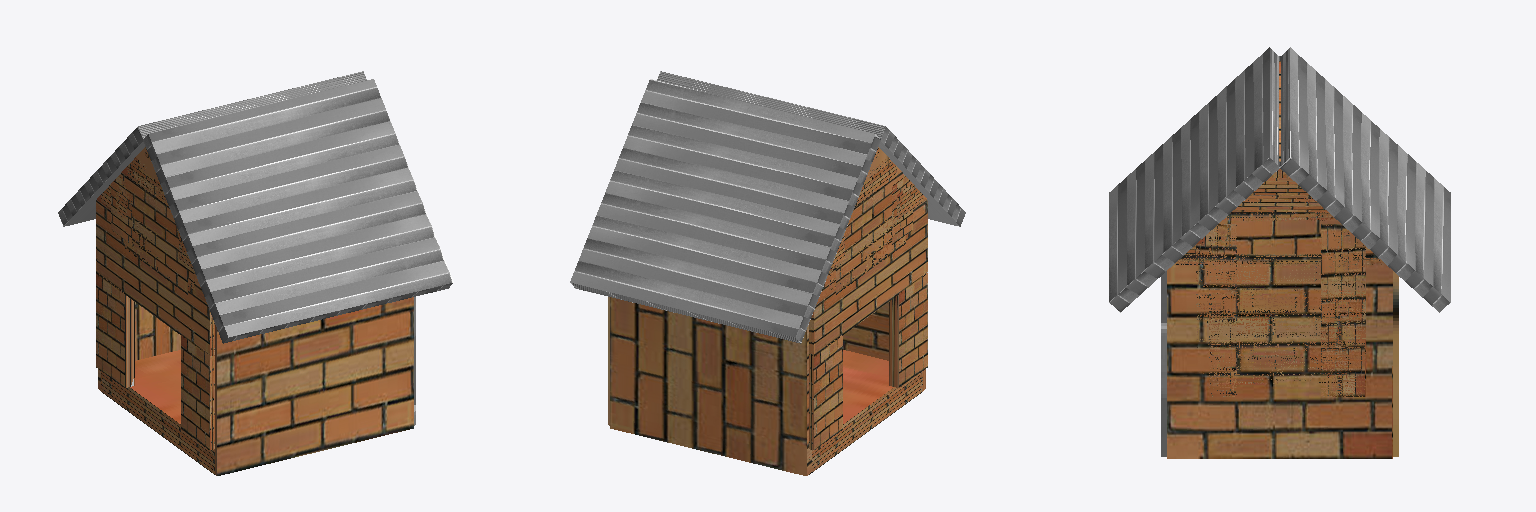
3 renders of one model, left to right at view 1: azimuth 30°, elevation 25°; view 2: azimuth 150°, elevation 25°; view 3: azimuth 270°, elevation 25°, orthographic.
Size of the model in its own units: 2.3 by 2.99 by 3.01.
23 materials, 1 textured.